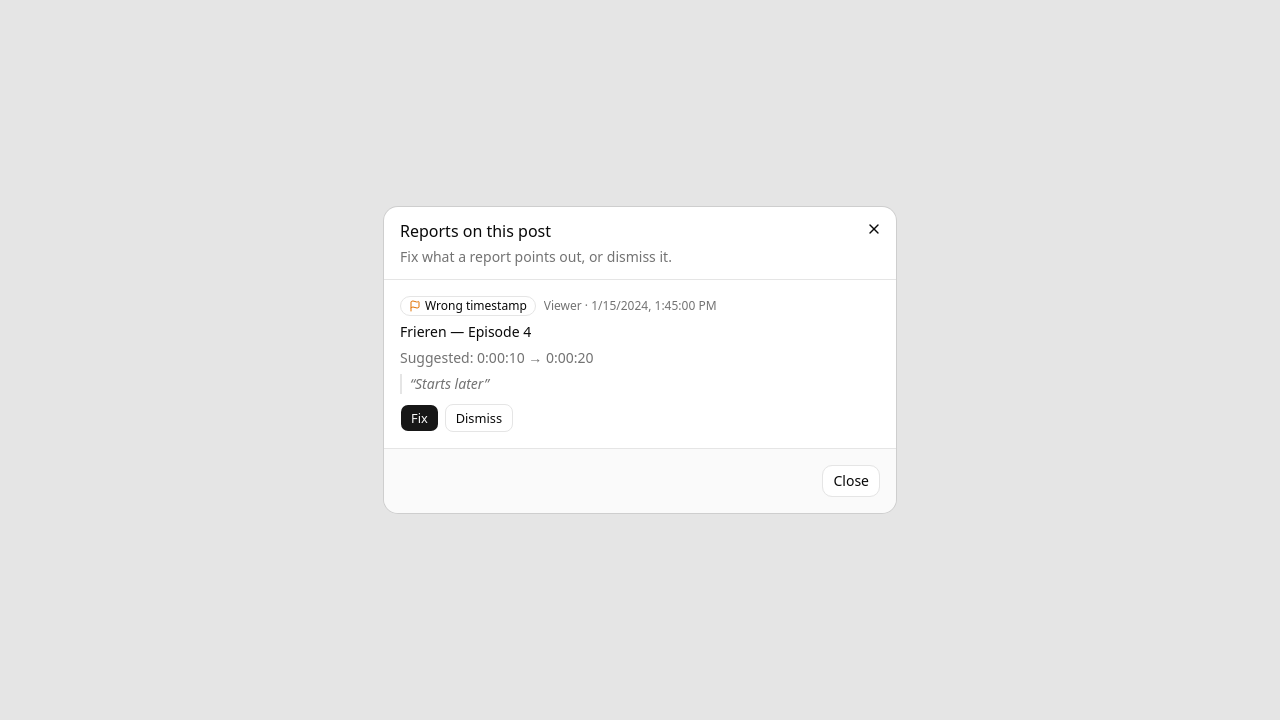
Test: reportsReviewDialog › shows why a report could not be dismissed, until the next try
The image size is (1280, 720).
Click the button "Dismiss": (479, 418) 445,404 -> 513,432
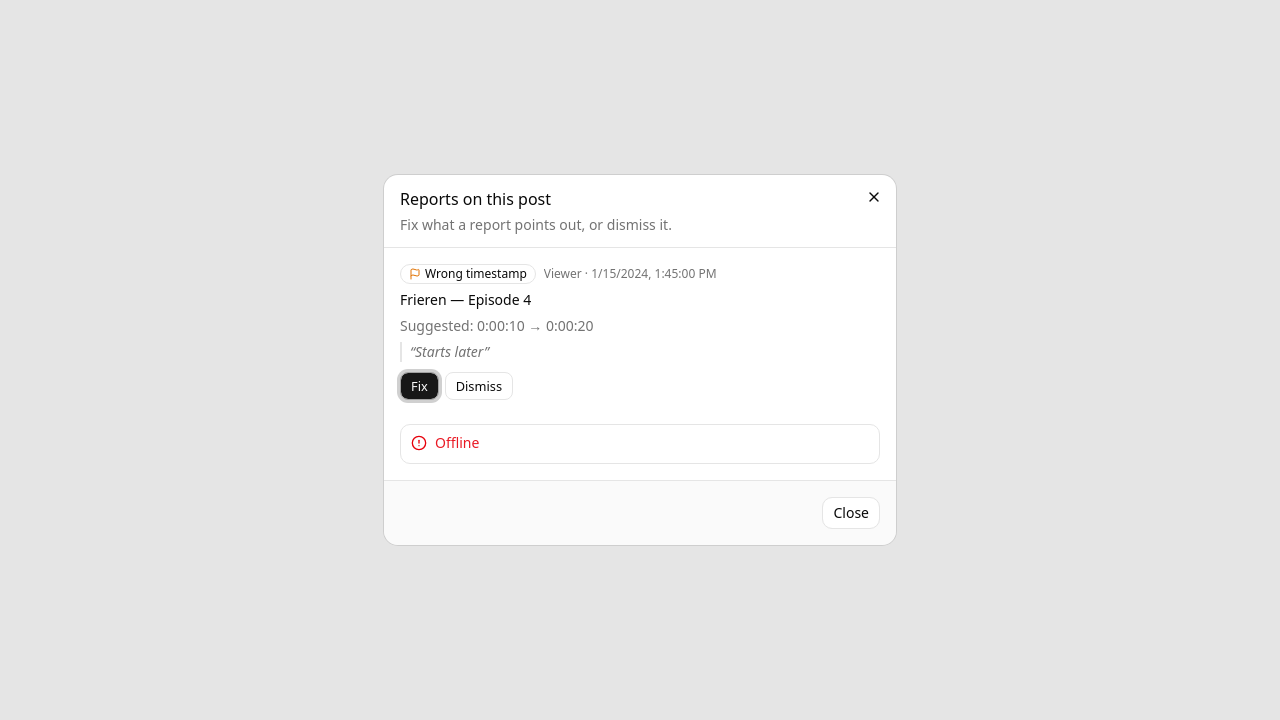
expect the message reads "Offline": met, box 435,433 -> 479,452
Click the button "Dismiss": (479, 386) 445,372 -> 513,400
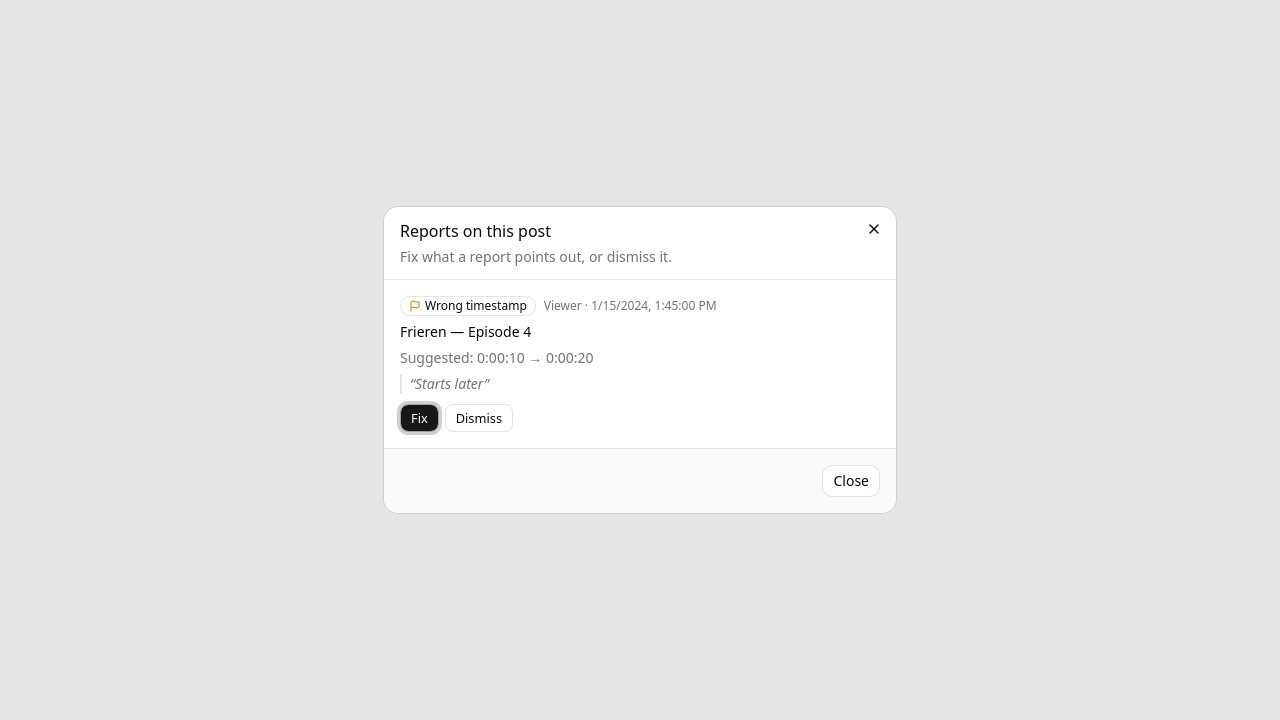
expect the message "Offline" is gone: met
